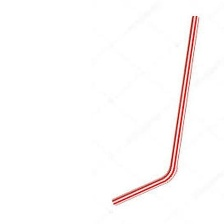drinking_straw: (106, 12, 203, 208)
